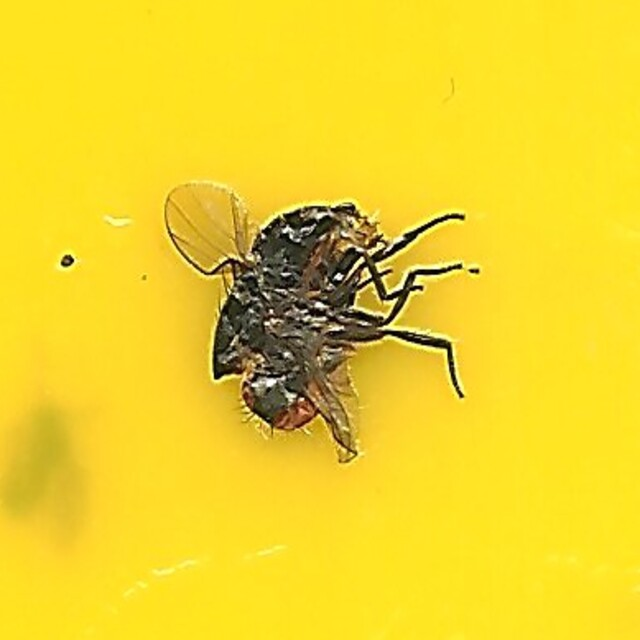Brachycera: (165, 181, 475, 459)
